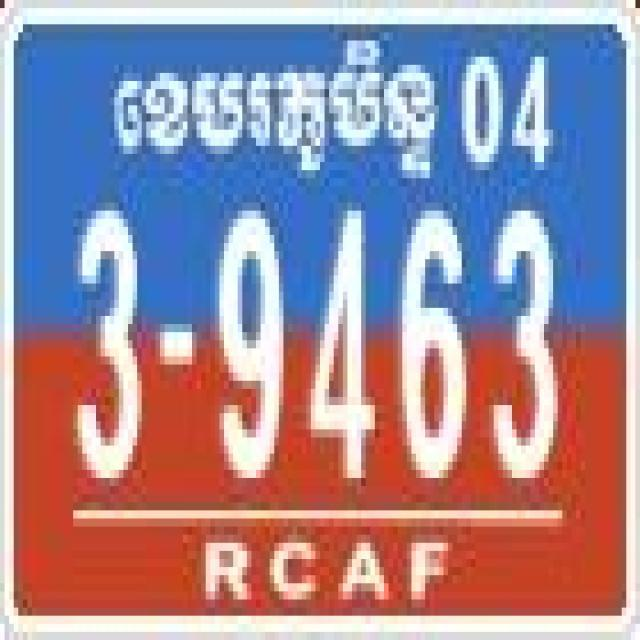RCAF: (110, 41, 442, 202)
